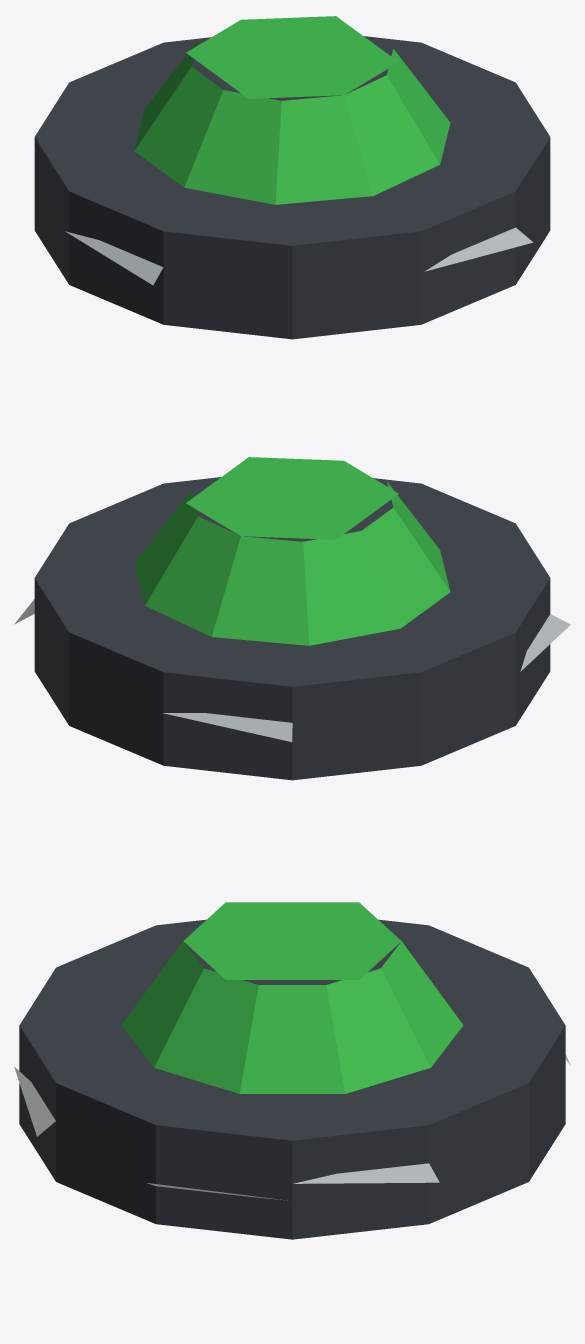
Rendered from mine-corrosive.lod.glb.
The picture shows the model from 3 angles, top to bottom: view 1: azimuth 30°, elevation 25°; view 2: azimuth 150°, elevation 25°; view 3: azimuth 270°, elevation 25°; orthographic projection. The views are drawn at different scales.
Parts seen in each view (by area): view 1: m; view 2: m; view 3: m.
Boxes of the visible parts, x1,y1,x2,y2 form: m: [34, 16, 550, 339]; m: [14, 457, 570, 780]; m: [14, 902, 570, 1239].
Bounding box in the file's own units: 0.0944 × 0.0519 × 0.0944.
